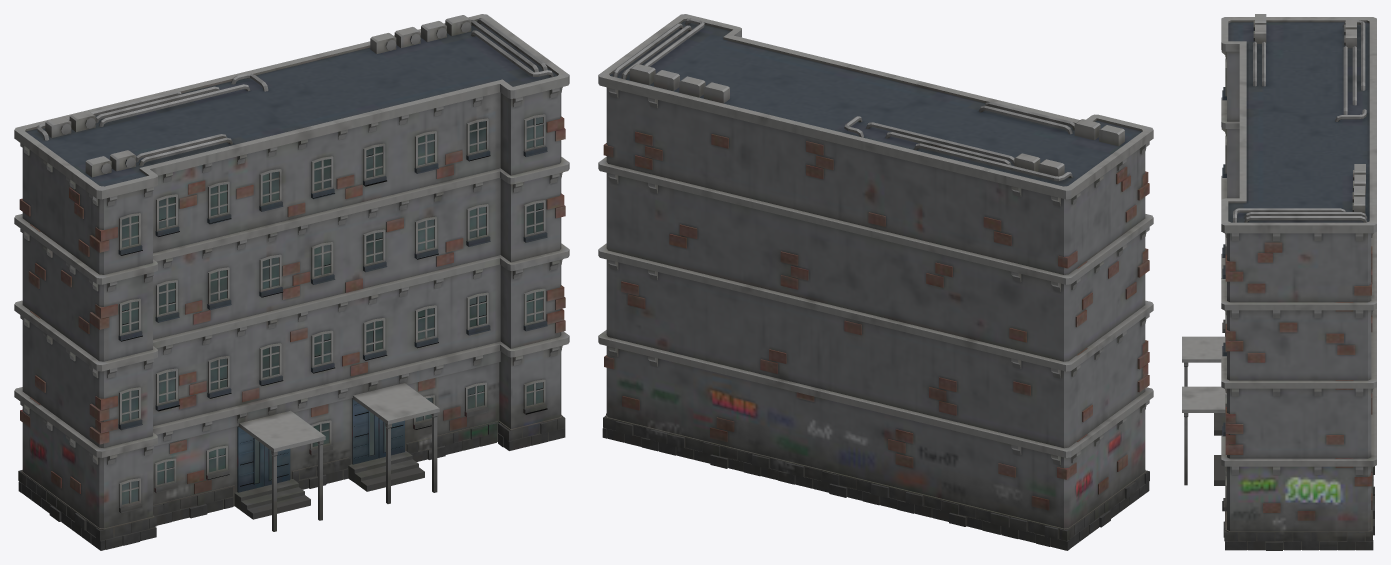
The model's file is 4Story_Wide_2Doors.glb.
3 renders of one model, left to right at view 1: azimuth 30°, elevation 25°; view 2: azimuth 150°, elevation 25°; view 3: azimuth 270°, elevation 25°, orthographic. The views are drawn at different scales.
Visible parts, largest first — view 1: 4Story_Wide_2Doors_low; view 2: 4Story_Wide_2Doors_low; view 3: 4Story_Wide_2Doors_low.
Part boxes in pixels (x1,y1,x2,y2): 4Story_Wide_2Doors_low: (14, 14, 569, 550); 4Story_Wide_2Doors_low: (598, 14, 1153, 550); 4Story_Wide_2Doors_low: (1182, 14, 1376, 550).
Size of the model in its own units: 6.83 by 5.15 by 2.7.
2 materials, 2 textured.
